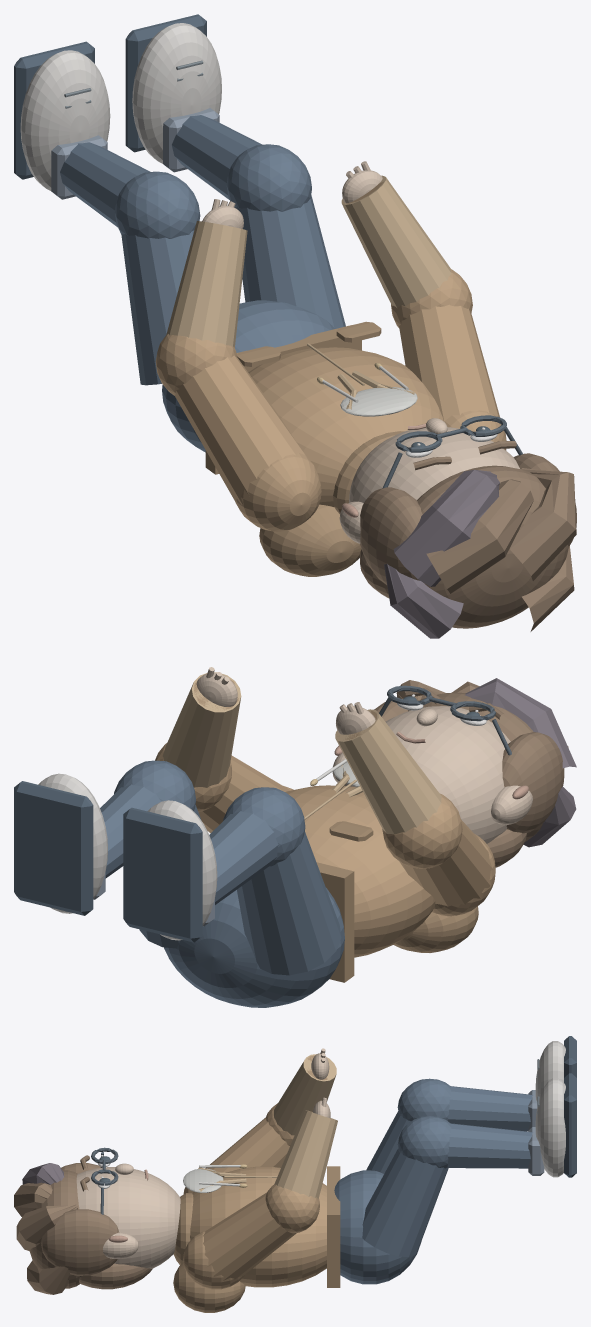
File: growth_working_0.glb
3 renders of one model, top to bottom at view 1: azimuth 30°, elevation 25°; view 2: azimuth 150°, elevation 25°; view 3: azimuth 270°, elevation 25°, orthographic. The views are drawn at different scales.
Parts seen in each view (by area): view 1: 0000__hoodie_main_torso, 0057__sleeve_upper, 0065__jeans_thigh, 0050__sneaker, 0069__sneaker, 0076__sleeve_upper, 0078__sleeve_forearm, 0059__sleeve_forearm, 0022__hair_crown, 0046__jeans_thigh, 0017__face_head, 0026__hair_lock_0 (+22 smaller); view 2: 0000__hoodie_main_torso, 0046__jeans_thigh, 0051__rubber_sole, 0070__rubber_sole, 0014__pants_pelvis, 0017__face_head, 0059__sleeve_forearm, 0078__sleeve_forearm, 0024__temple_side, 0048__jeans_shin, 0057__sleeve_upper, 0058__elbow_fold (+20 smaller); view 3: 0000__hoodie_main_torso, 0017__face_head, 0065__jeans_thigh, 0014__pants_pelvis, 0076__sleeve_upper, 0025__temple_side, 0067__jeans_shin, 0078__sleeve_forearm, 0048__jeans_shin, 0069__sneaker, 0059__sleeve_forearm, 0057__sleeve_upper (+21 smaller).
Boxes of the visible parts, x1,y1,x2,y2 form: 0000__hoodie_main_torso: (248, 347, 443, 507); 0057__sleeve_upper: (174, 355, 304, 505); 0065__jeans_thigh: (234, 195, 345, 328); 0050__sneaker: (20, 50, 110, 190); 0069__sneaker: (132, 23, 221, 163); 0076__sleeve_upper: (399, 304, 499, 421); 0078__sleeve_forearm: (341, 175, 451, 307); 0059__sleeve_forearm: (166, 221, 247, 347); 0022__hair_crown: (417, 465, 568, 628); 0046__jeans_thigh: (121, 230, 194, 385); 0017__face_head: (349, 427, 519, 502); 0026__hair_lock_0: (393, 469, 499, 586); 0000__hoodie_main_torso: (285, 785, 435, 957); 0046__jeans_thigh: (237, 832, 341, 975); 0051__rubber_sole: (123, 807, 202, 942); 0070__rubber_sole: (14, 781, 93, 915); 0014__pants_pelvis: (164, 888, 344, 1007); 0017__face_head: (345, 706, 510, 843); 0059__sleeve_forearm: (335, 709, 441, 834); 0078__sleeve_forearm: (162, 672, 241, 787); 0024__temple_side: (502, 732, 564, 833); 0048__jeans_shin: (209, 811, 278, 904); 0057__sleeve_upper: (400, 819, 493, 906); 0058__elbow_fold: (382, 793, 462, 868); 0000__hoodie_main_torso: (190, 1166, 326, 1287); 0017__face_head: (76, 1167, 180, 1268); 0065__jeans_thigh: (362, 1148, 448, 1257); 0014__pants_pelvis: (334, 1170, 421, 1284); 0076__sleeve_upper: (203, 1192, 296, 1280); 0025__temple_side: (41, 1209, 119, 1275); 0067__jeans_shin: (447, 1123, 532, 1168); 0078__sleeve_forearm: (274, 1110, 337, 1198); 0048__jeans_shin: (447, 1086, 532, 1131); 0069__sneaker: (535, 1078, 565, 1177); 0059__sleeve_forearm: (274, 1054, 336, 1135); 0057__sleeve_upper: (205, 1118, 289, 1172).
Bounding box in the file's own units: 0.794 × 0.8228 × 1.85.
